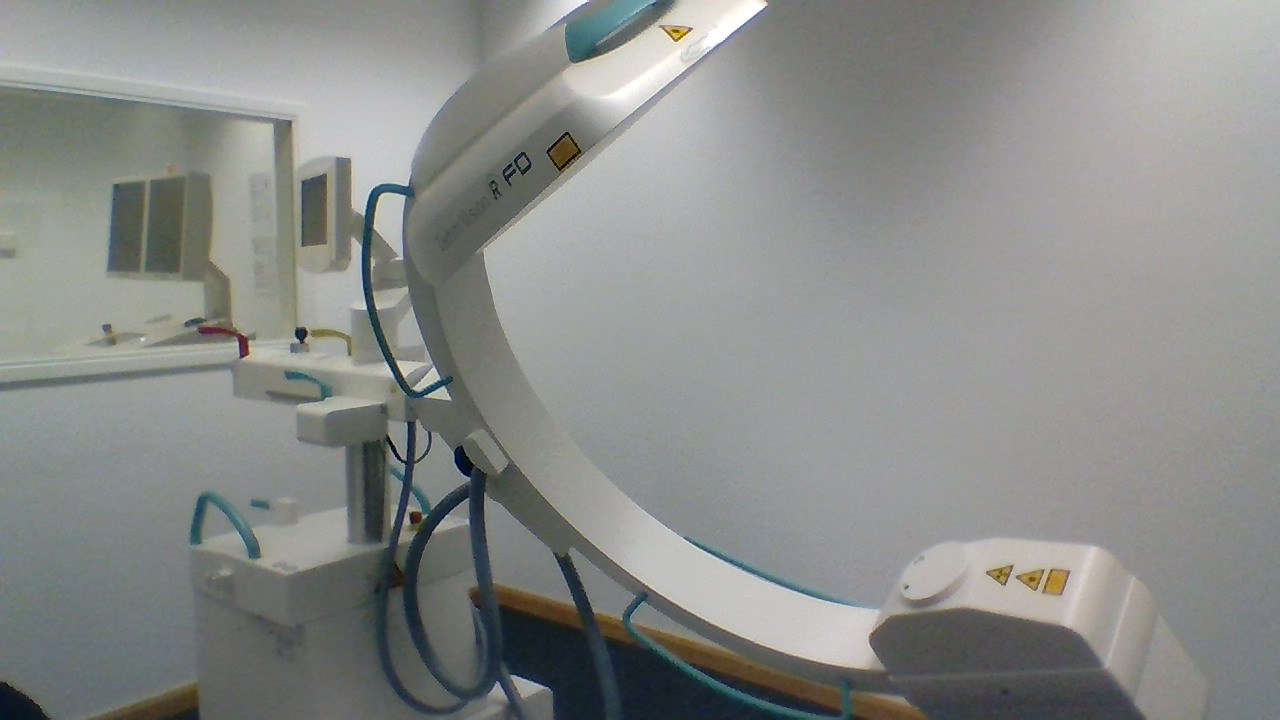carmBACK: (247, 496, 301, 524)
carmDOWN: (868, 538, 1137, 677)
carmLOCK: (451, 443, 481, 478)
carmSCREEN: (292, 156, 351, 273)
carmUP: (403, 2, 770, 288)
